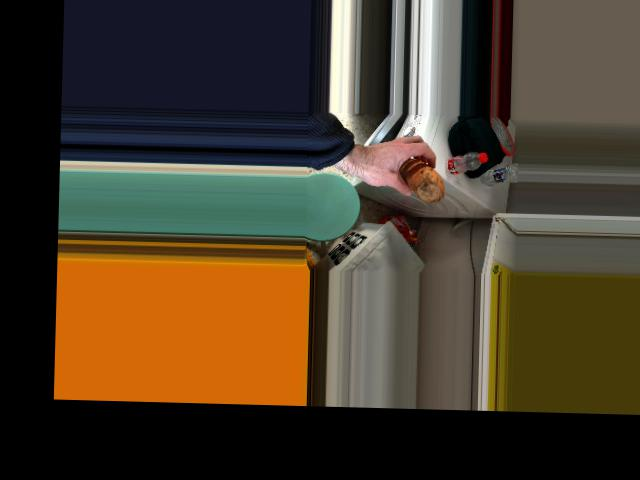sweet_potato: (395, 158, 444, 200)
